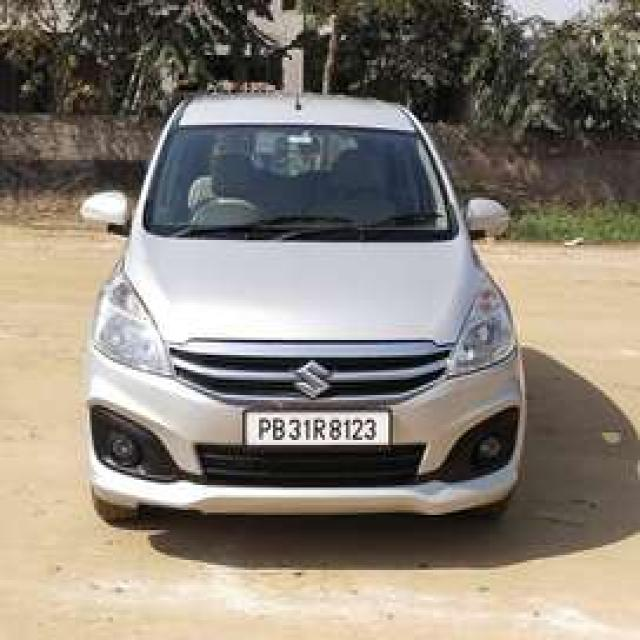plate: (244, 408, 392, 444)
